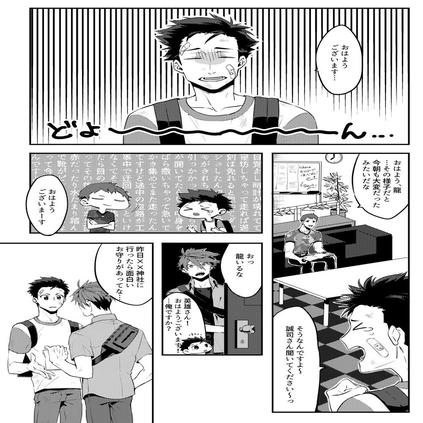bubble: (272, 305, 324, 411), (351, 153, 409, 218), (93, 242, 151, 305), (317, 26, 363, 92), (26, 175, 68, 233), (220, 242, 260, 296)
